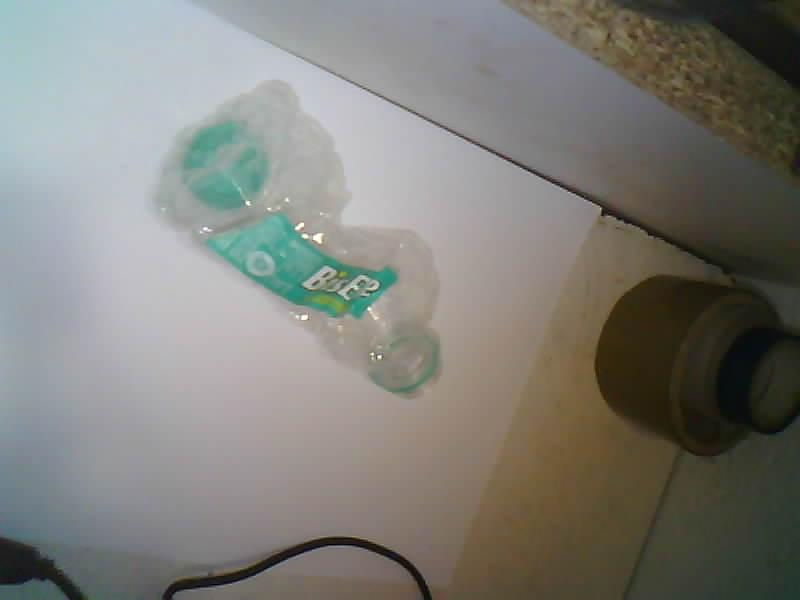non-biodegradable: (159, 81, 440, 394)
